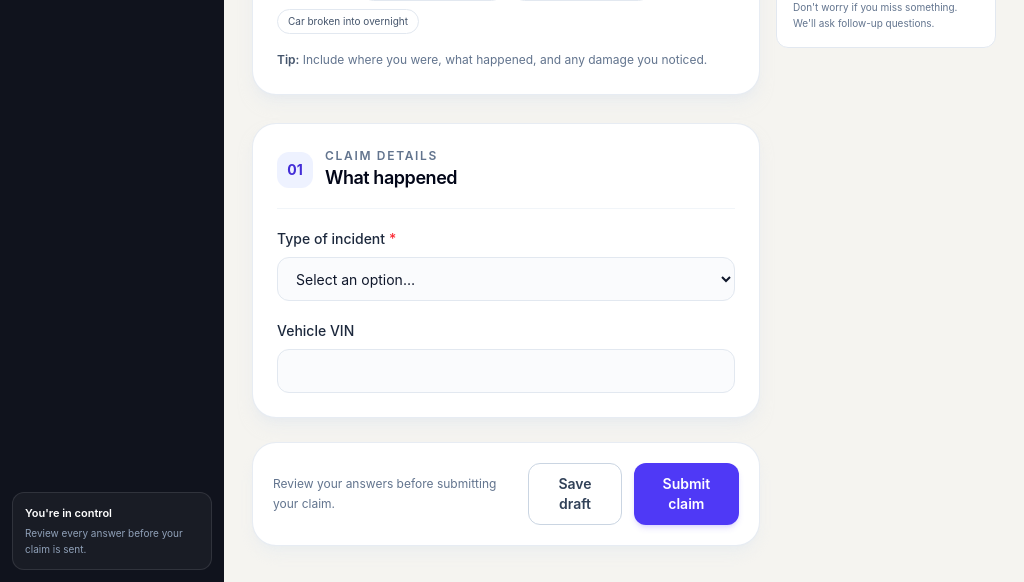
Test: ClaimPage draft and submission flow › submits only fields visible under the current showIf values
(page scrolled)
Select "Hit an animal" in the dropdown labelled "Type of incident" at (506, 279), box [277,257,735,301]
(page scrolled)
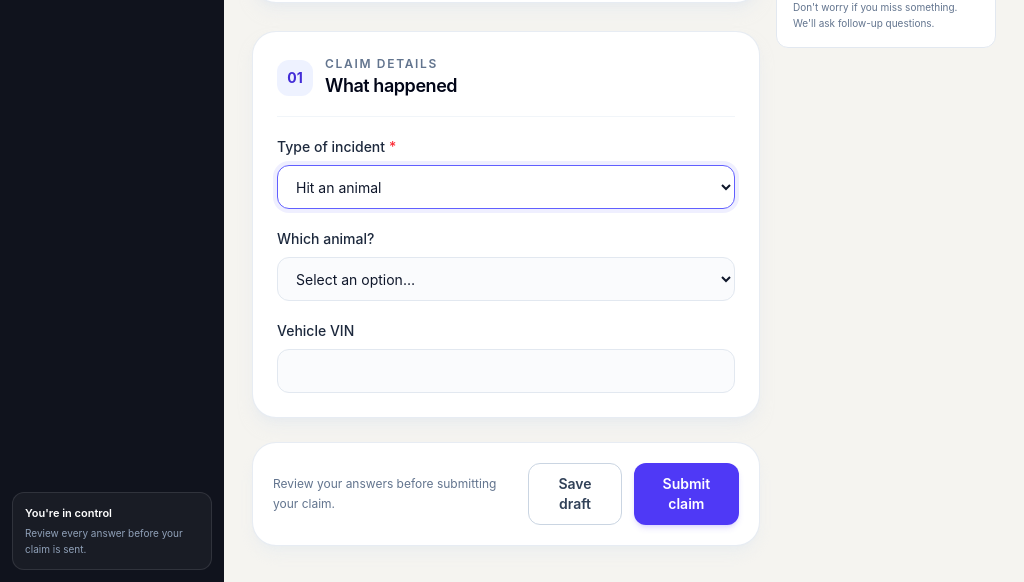
Select "Deer" in the dropdown labelled "Which animal?" at (506, 279), box [277,257,735,301]
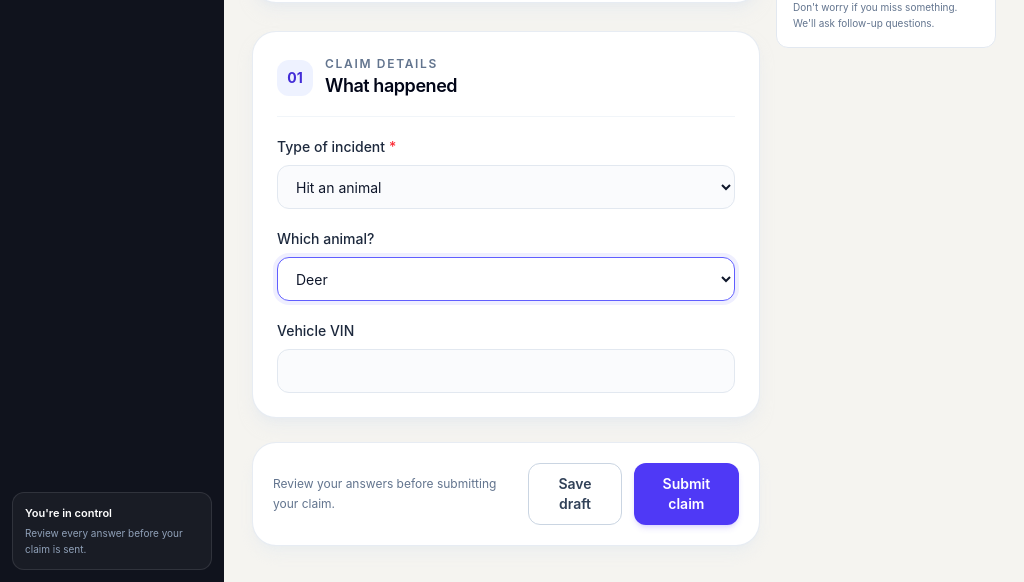
Select "Collision with a vehicle" in the dropdown labelled "Type of incident" at (506, 187), box [277,165,735,209]
(page scrolled)
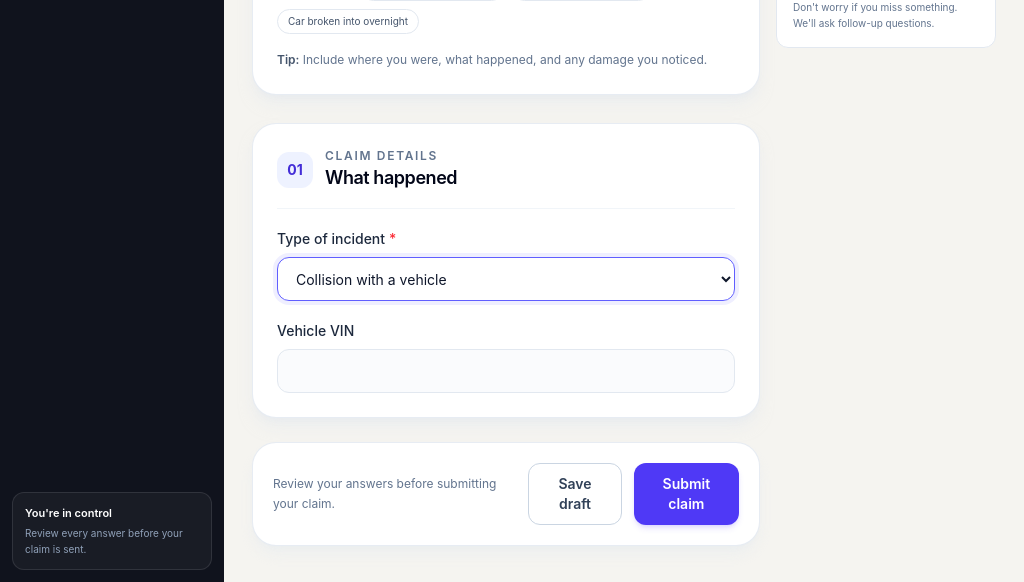
expect the label "Which animal?" is gone: met
Click the button "Submit claim" at (686, 494), box [634,463,739,525]
(page scrolled)
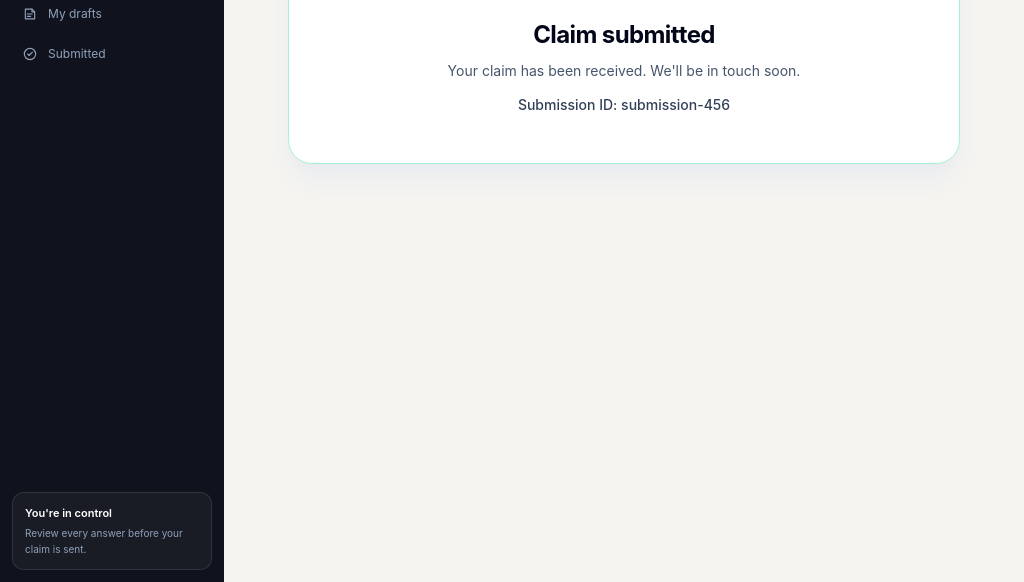
expect the text with test id "submission-id" reads "submission-456": met, box [621,96,730,113]
